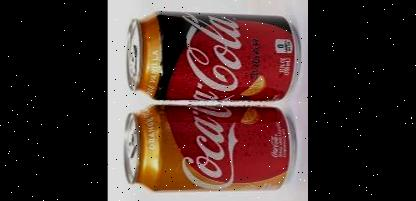Can: (124, 10, 300, 102), (122, 102, 297, 192)
